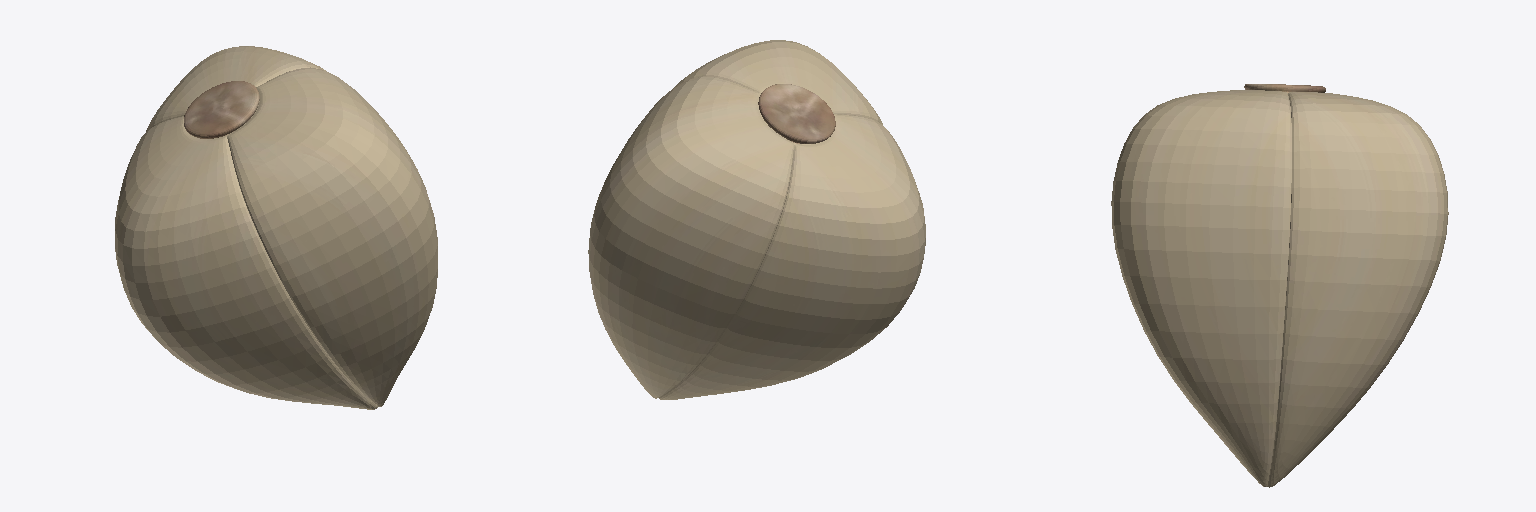
3 views of the same model, side by side, from view 1: azimuth 30°, elevation 25°; view 2: azimuth 150°, elevation 25°; view 3: azimuth 270°, elevation 25° (orthographic).
Visible parts, largest first — view 1: GrainBuckwheat033; view 2: GrainBuckwheat033; view 3: GrainBuckwheat033.
Boxes of the visible parts, <box> form: GrainBuckwheat033: <box>115,46,437,409</box>; GrainBuckwheat033: <box>588,40,925,399</box>; GrainBuckwheat033: <box>1111,84,1448,487</box>.
Bounding box in the file's own units: 0.0259 × 0.0307 × 0.0266.
Materials: 1 (1 with a texture image).